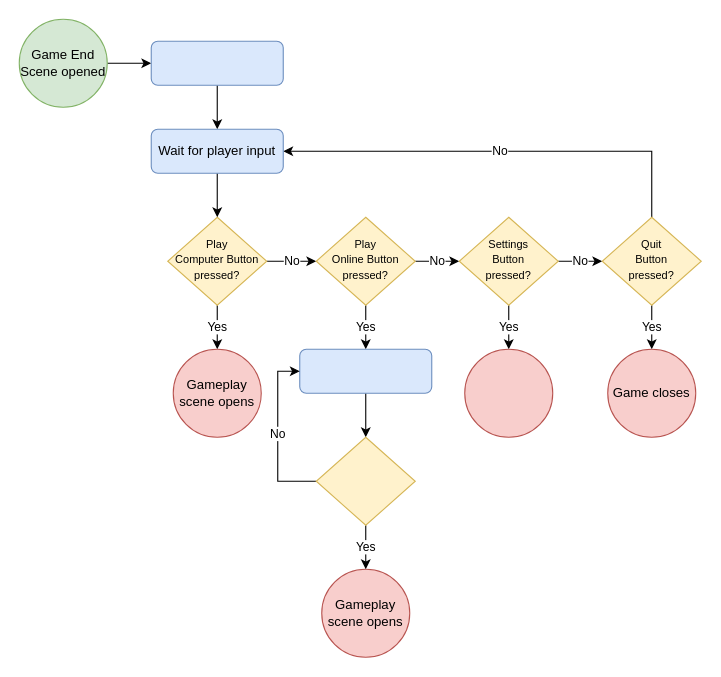
Image size: 721x677. Some labels were removed from this diagram. Here are the shapes that lost their labels. From the top down, the centre of each, then its label:
pixel 216 62: Home scene loads
pixel 365 370: Game searches for partner
pixel 508 392: Setting scene opens
pixel 365 480: Partner found?
